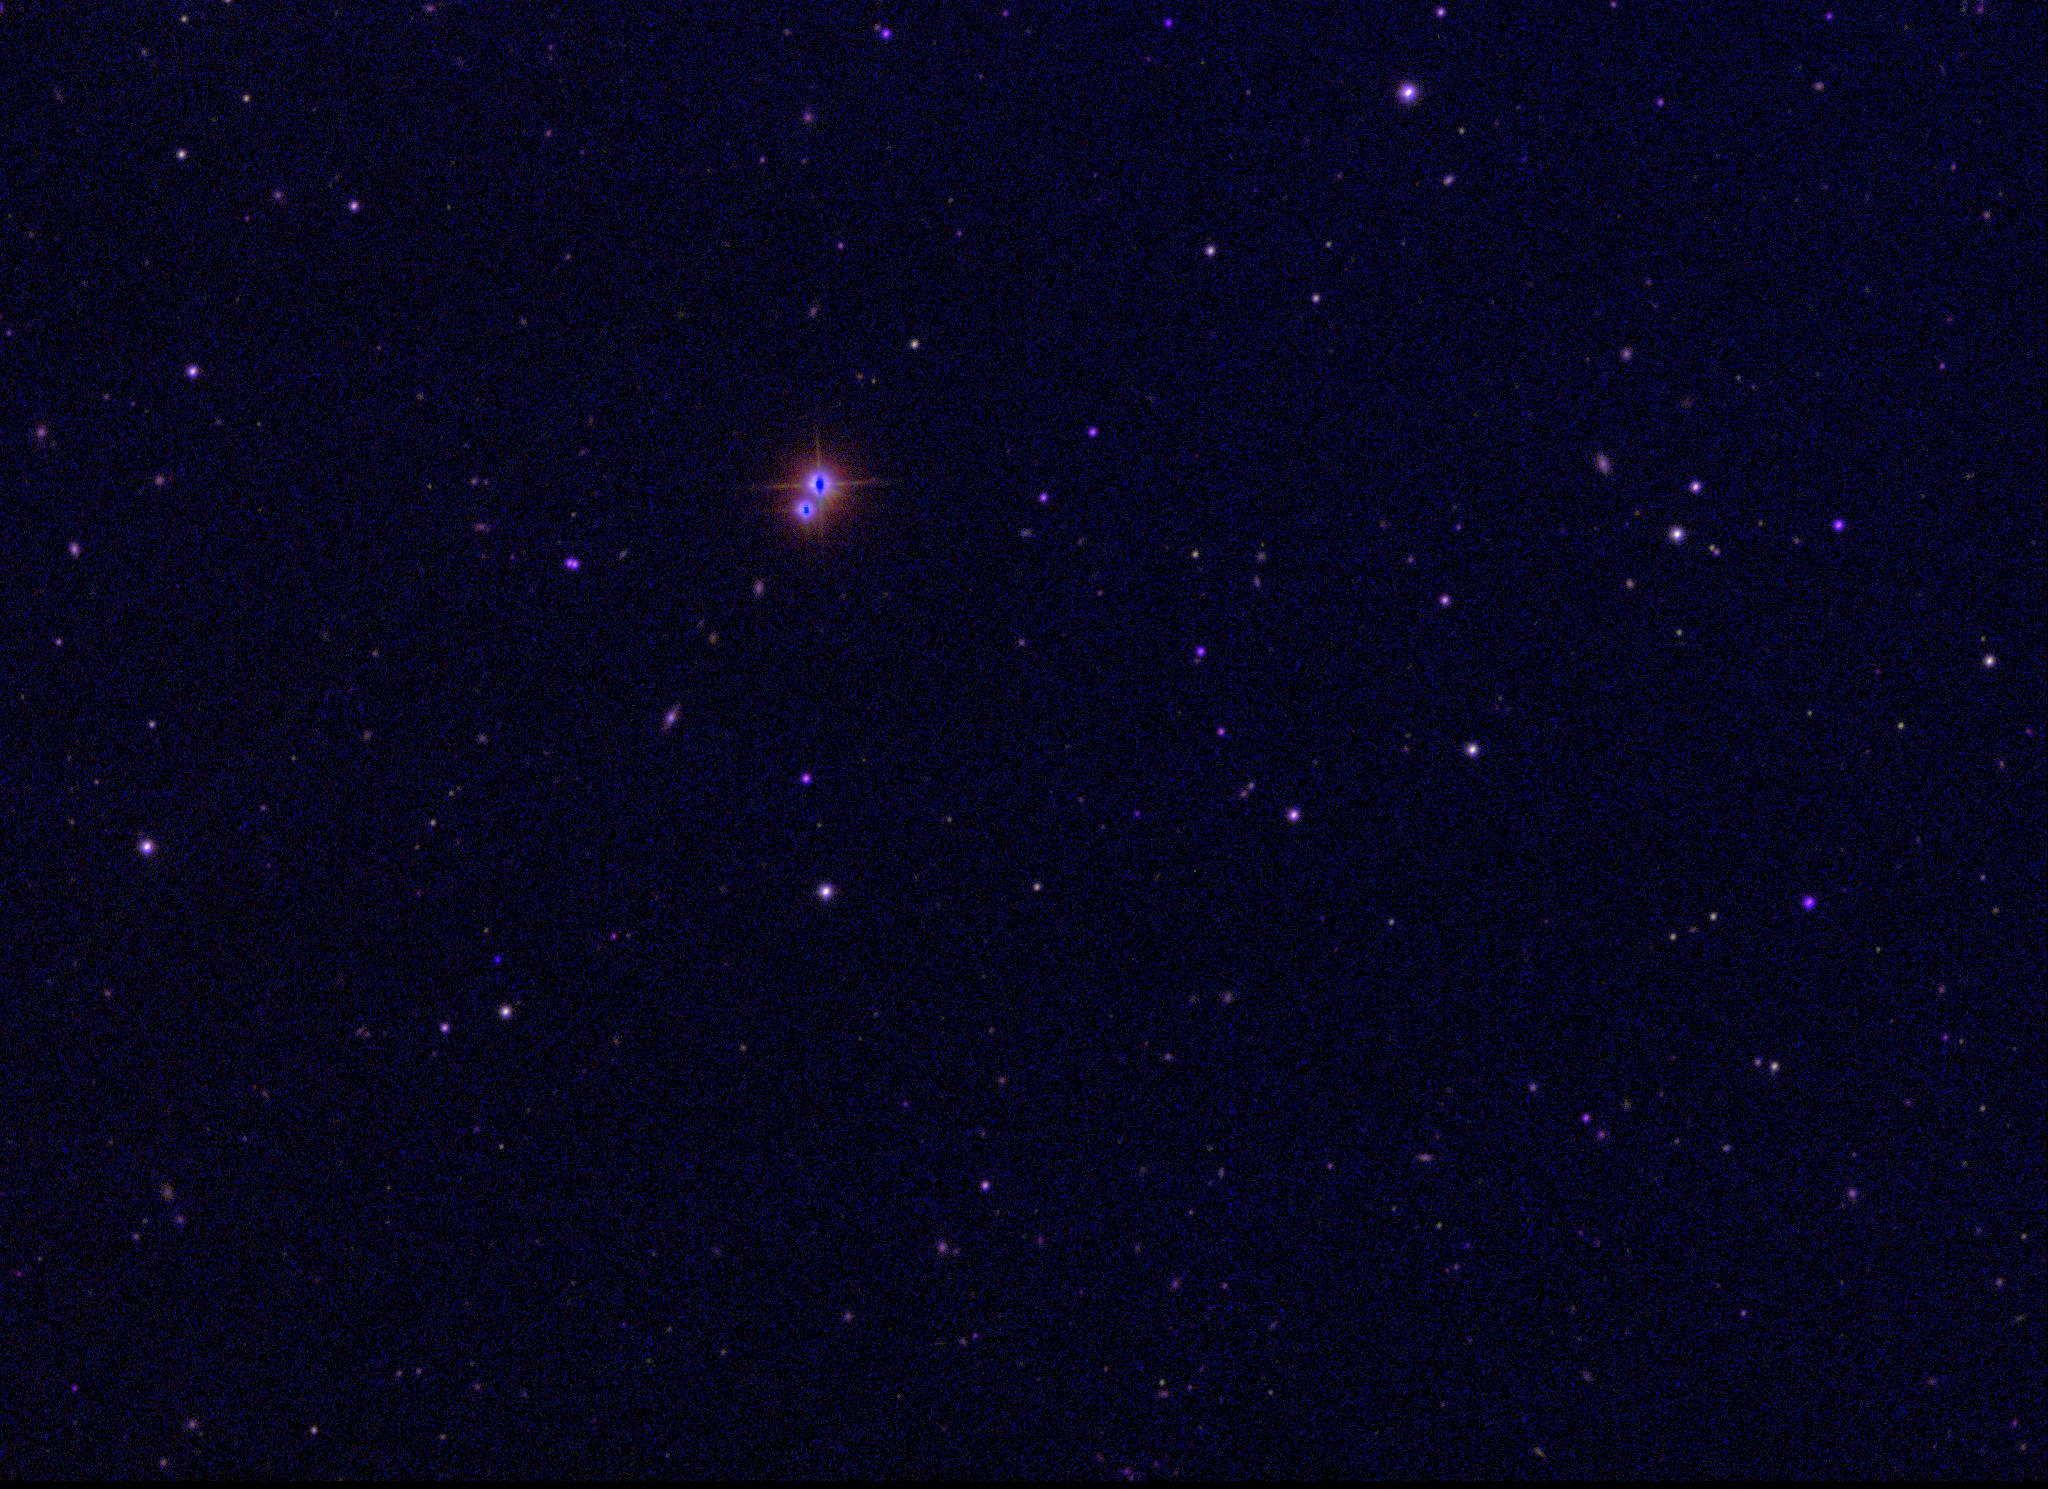L: (490, 954, 502, 969)
